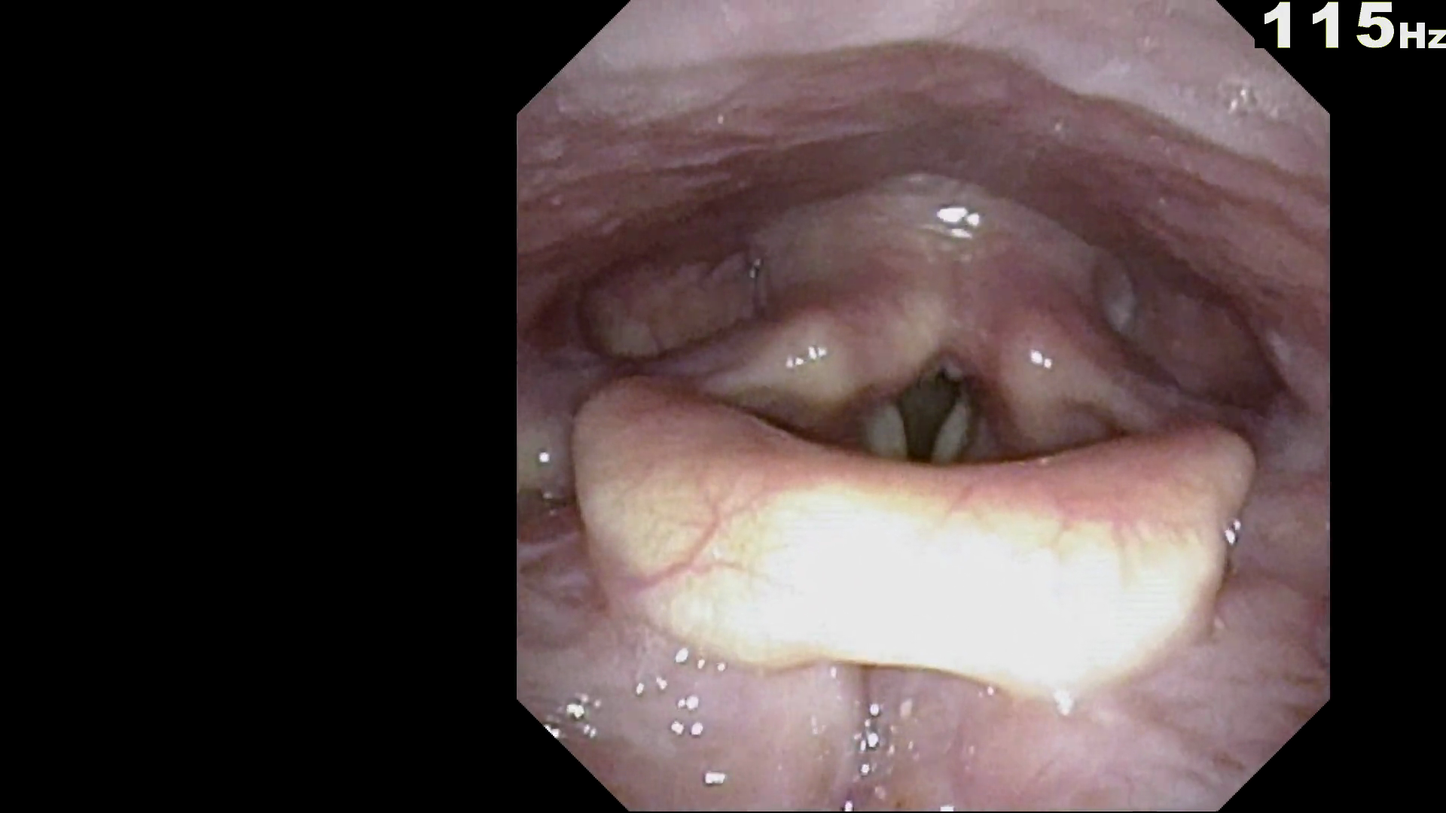epiglottis: (552, 338, 1280, 701)
trachea: (845, 300, 1024, 525)
